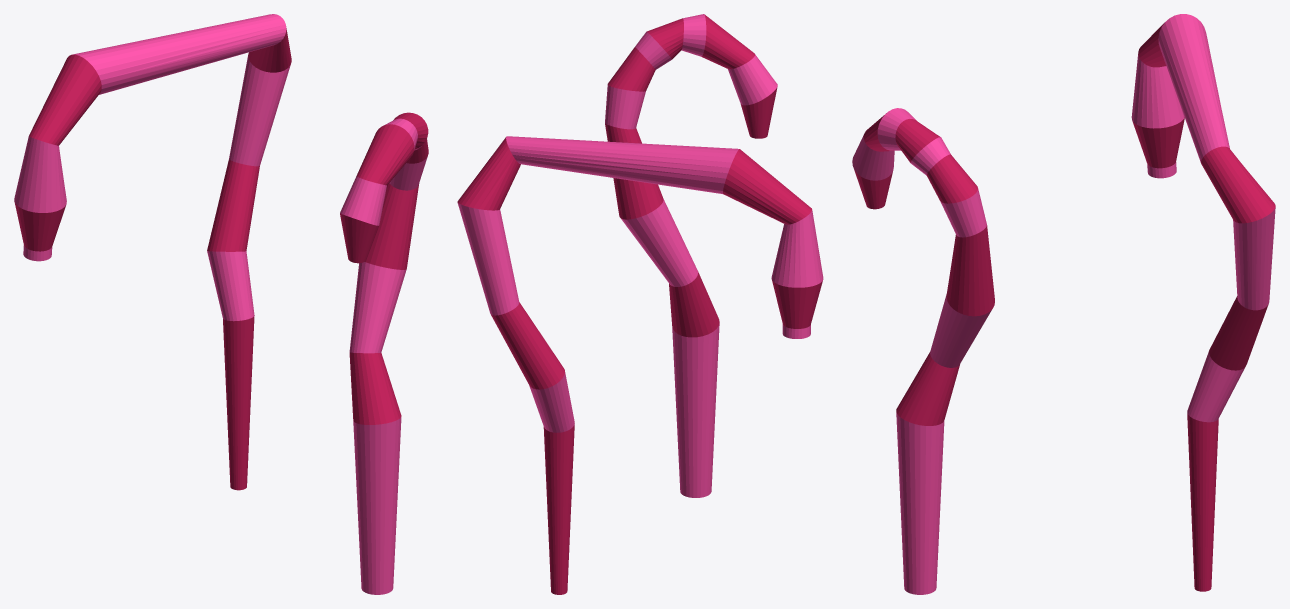
File: pembetools.obj
3 views of the same model, side by side, from view 1: azimuth 30°, elevation 25°; view 2: azimuth 150°, elevation 25°; view 3: azimuth 270°, elevation 25° (orthographic). The views are drawn at different scales.
Parts seen in each view (by area): view 1: Plane.004_makine_a.çık, Plane.004_makine_p, Plane.003_makine_a.çık, Plane.003_makine_p; view 2: Plane.004_makine_a.çık, Plane.004_makine_p, Plane.003_makine_a.çık, Plane.003_makine_p; view 3: Plane.004_makine_a.çık, Plane.003_makine_a.çık, Plane.004_makine_p, Plane.003_makine_p.
Boxes of the visible parts, box(x1,y1,x2,y2) form: Plane.004_makine_a.çık: box(14, 14, 290, 321); Plane.004_makine_p: box(14, 28, 291, 490); Plane.003_makine_a.çık: box(340, 118, 427, 594); Plane.003_makine_p: box(340, 112, 428, 424); Plane.004_makine_a.çık: box(457, 136, 823, 432); Plane.004_makine_p: box(457, 137, 822, 594); Plane.003_makine_a.çık: box(605, 14, 777, 497); Plane.003_makine_p: box(605, 14, 777, 337); Plane.004_makine_a.çık: box(1131, 14, 1275, 422); Plane.003_makine_a.çık: box(852, 108, 991, 594); Plane.004_makine_p: box(1132, 22, 1275, 591); Plane.003_makine_p: box(854, 113, 994, 425).
Size of the model in its own units: 11.78 by 16.99 by 13.32.
